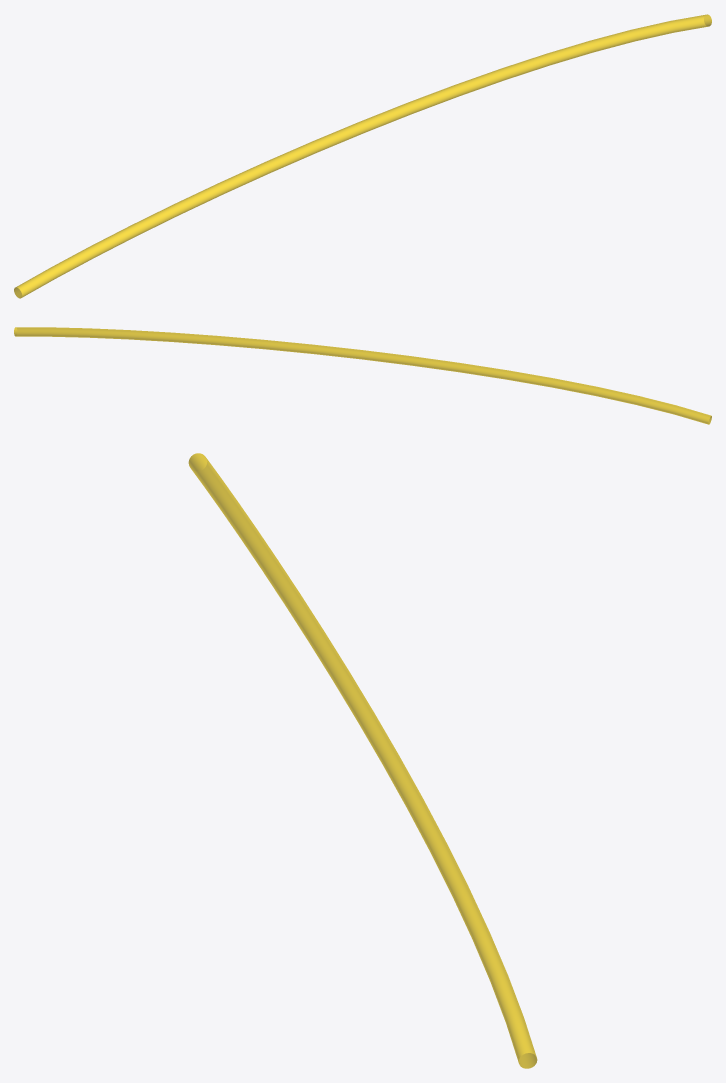
The model's file is Event_17758602_track_77.fbx.
The picture shows the model from 3 angles, top to bottom: view 1: azimuth 30°, elevation 25°; view 2: azimuth 150°, elevation 25°; view 3: azimuth 270°, elevation 25°; orthographic projection. The views are drawn at different scales.
Visible parts, largest first — view 1: Model; view 2: Model; view 3: Model.
Part boxes in pixels (box(x1,y1,x2,y2)): Model: box(14, 14, 711, 298); Model: box(14, 327, 711, 424); Model: box(188, 453, 537, 1068).
Size of the model in its own units: 2.99 by 0.1433 by 0.7362.
